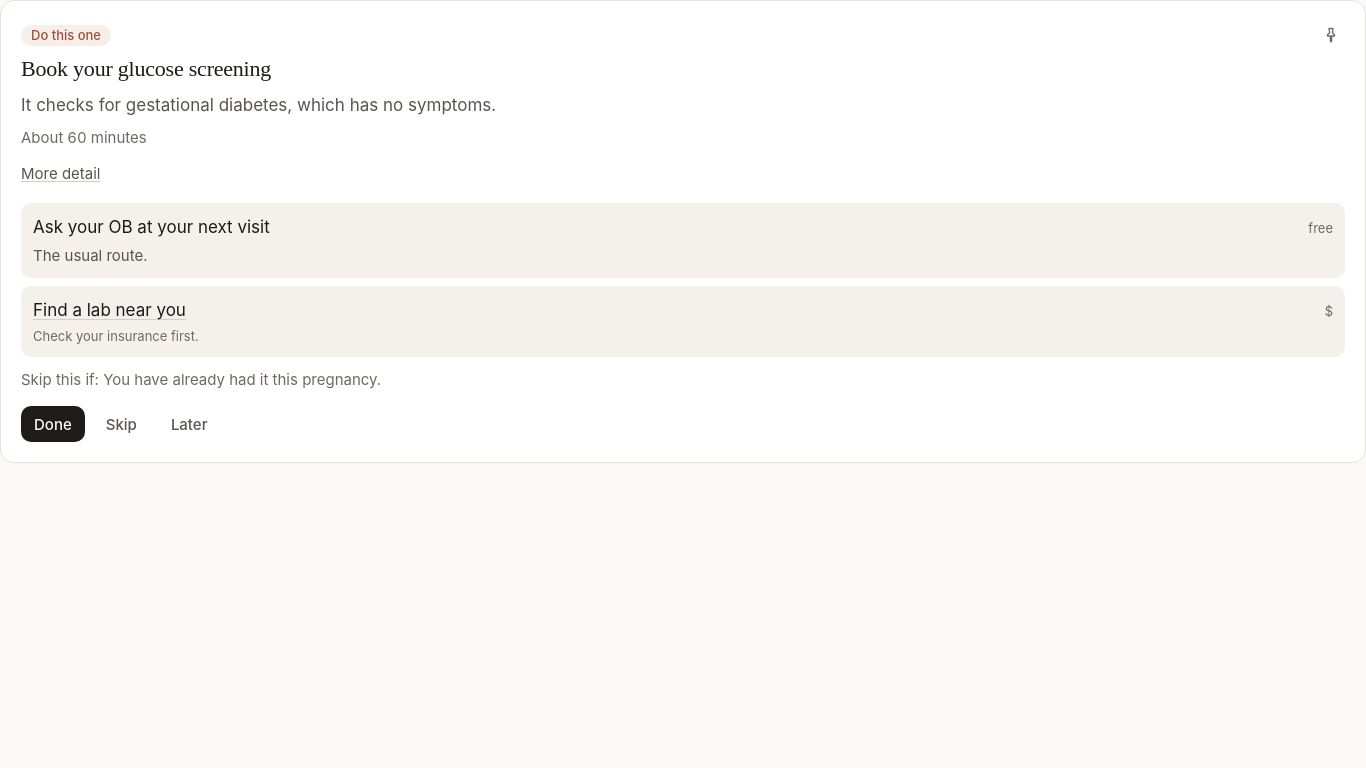
Test case: ActionItem › explains the free limit instead of pinning a sixth thing
The image size is (1366, 768).
What coordinates should you click on to do the following:
click the button named "Pin Book your glucose screening"
I would click on:
 (1331, 35)
Its box is [1317,21,1345,49].
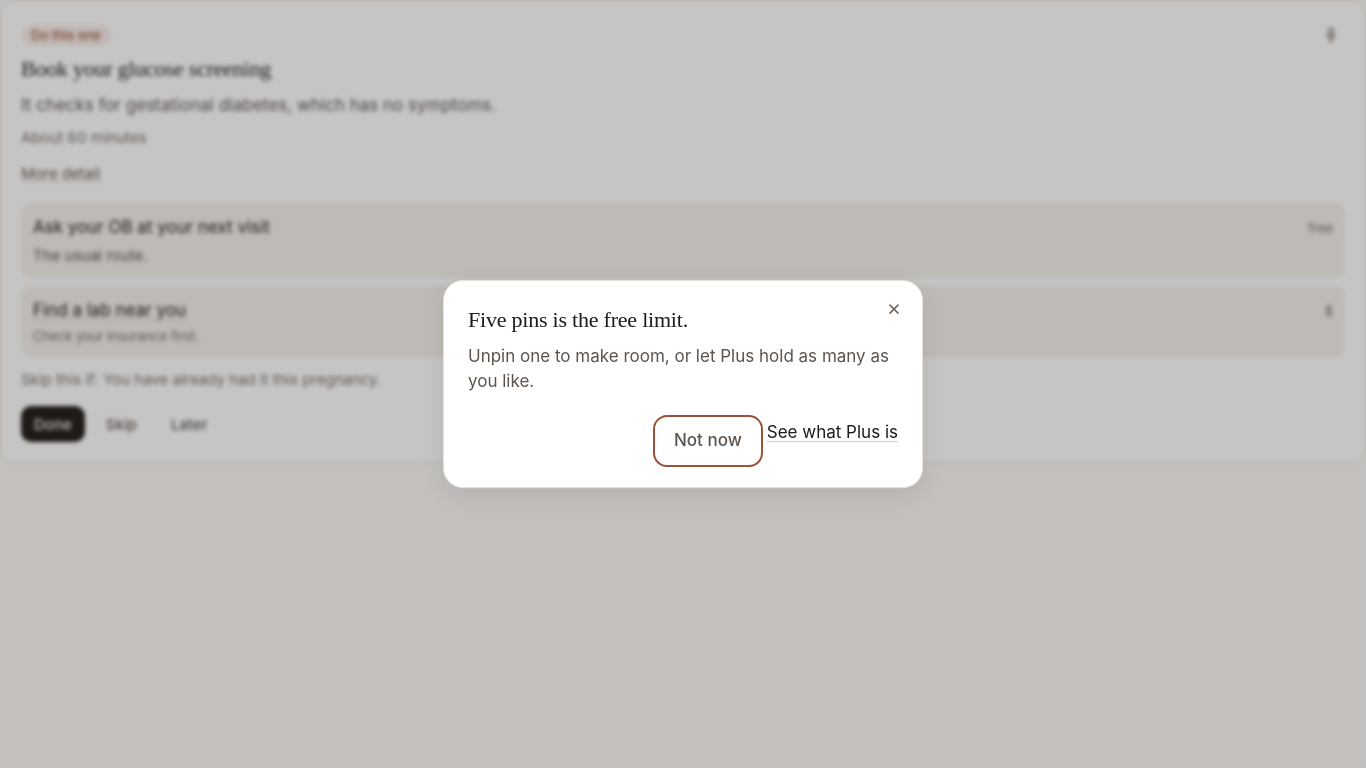
Now the dialog is shown, box [443,280,923,488]
Now the heading "Five pins is the free limit." is shown, box [468,307,688,332]
